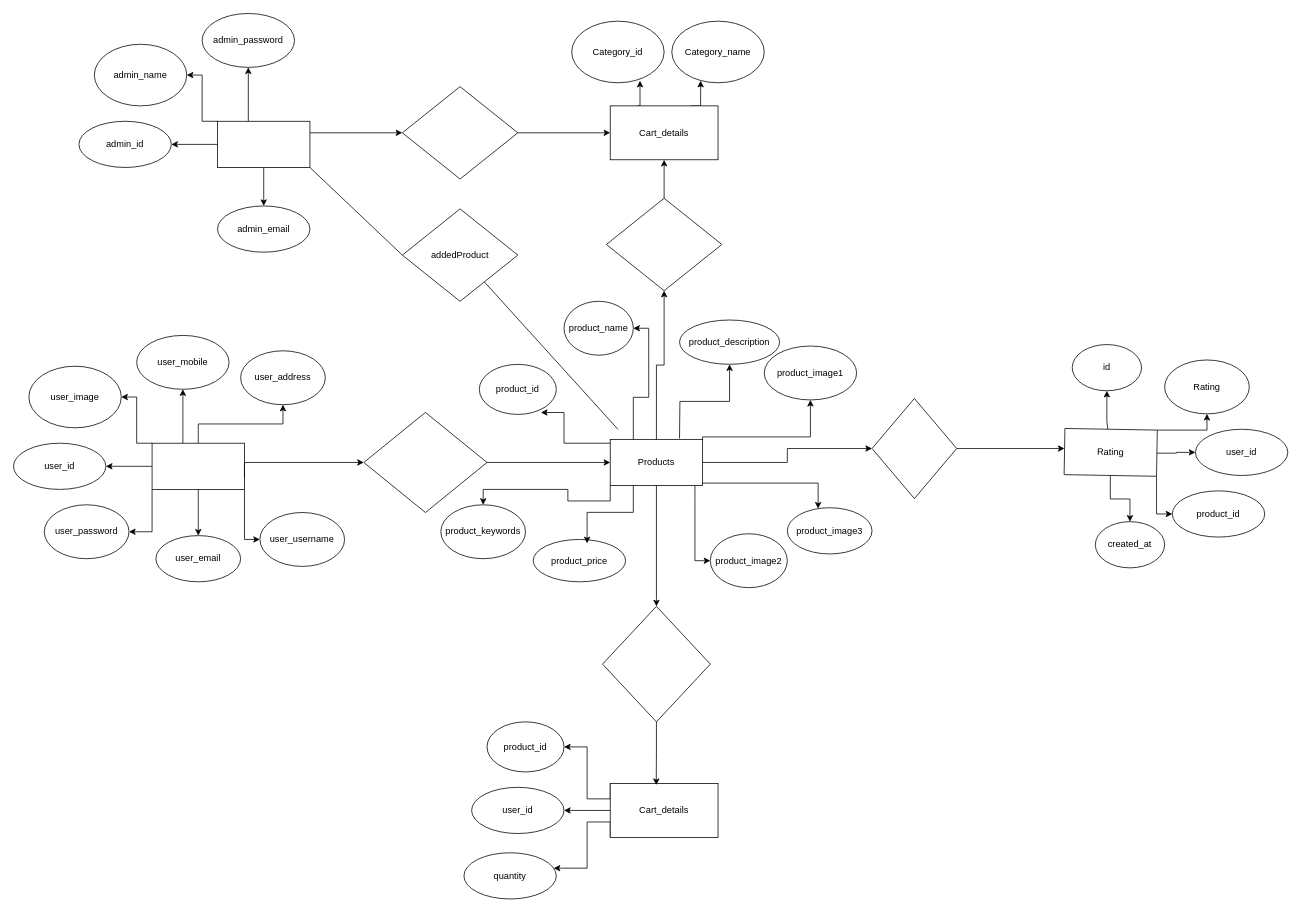
Some shapes in this 1301 by 912 pixel diagram are drawn without their labels. The box of each missing label's shape, as (x1, y1, x2, y2) in pixels:
Add to Cart: (602, 606, 710, 722)
addCategory: (402, 86, 518, 179)
admin: (217, 121, 310, 167)
Has: (606, 198, 722, 291)
Rate Product: (871, 398, 957, 499)
Recommended Product: (363, 412, 487, 513)
Users: (151, 442, 244, 489)
